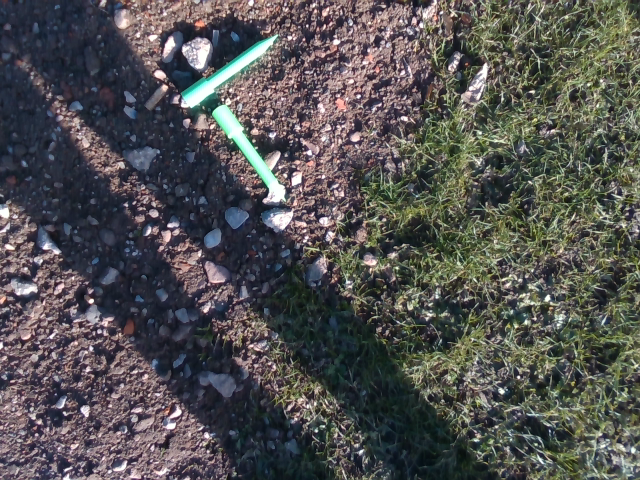Probe: (176, 29, 280, 111), (208, 102, 283, 193)
